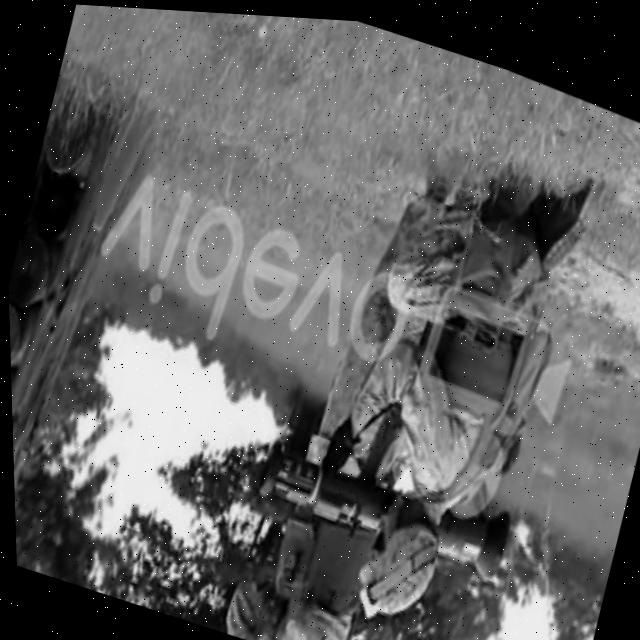rocket: (251, 421, 514, 578)
